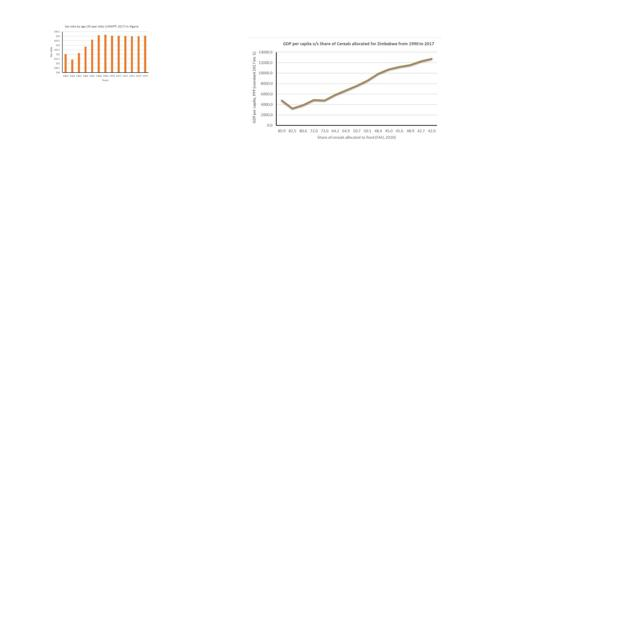Graph: (247, 37, 442, 145), (47, 23, 151, 83)
